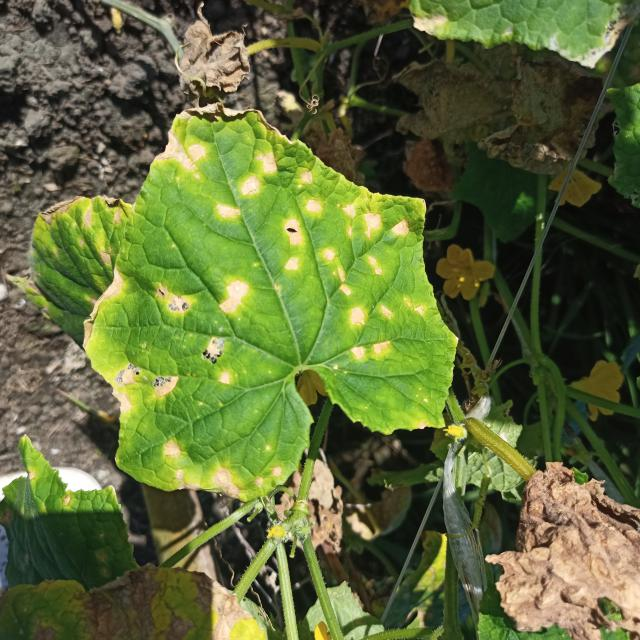disease_cucumber: (87, 116, 438, 495)
